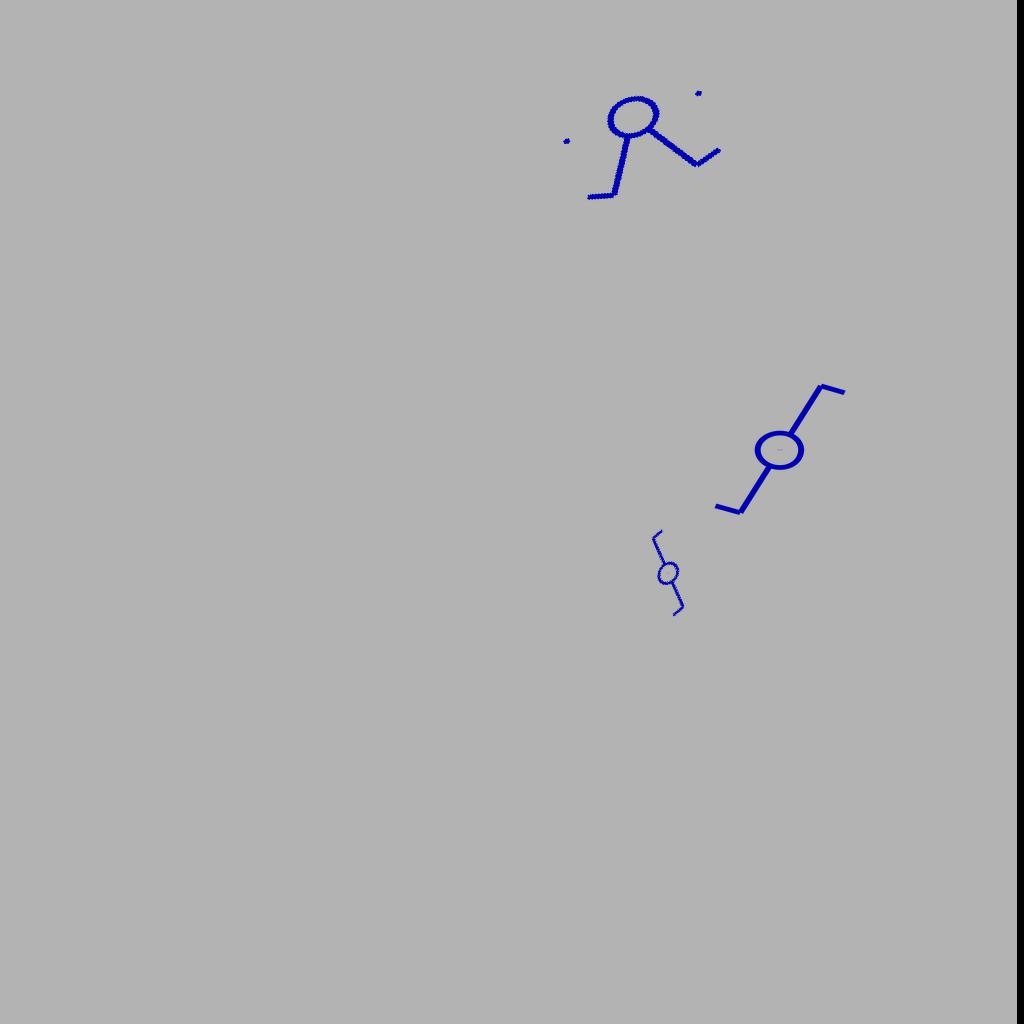Serienschalter: (547, 67, 739, 215)
Wechselschalter: (693, 376, 850, 520), (613, 523, 717, 629)
